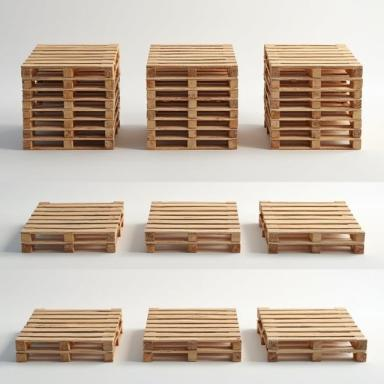pallet: (257, 307, 367, 350), (15, 308, 123, 351), (257, 320, 367, 362), (259, 200, 365, 243), (142, 308, 242, 351), (21, 201, 124, 242), (259, 214, 364, 254), (16, 325, 123, 362), (145, 201, 241, 242), (21, 217, 124, 253), (264, 43, 363, 78), (21, 44, 120, 78), (146, 44, 238, 78), (22, 120, 120, 150), (264, 120, 362, 150), (264, 60, 363, 89), (22, 61, 120, 89), (23, 112, 120, 138), (23, 104, 121, 129), (263, 75, 362, 99), (264, 114, 361, 138), (263, 96, 362, 119), (22, 76, 120, 99), (23, 96, 120, 119), (22, 87, 120, 109), (265, 107, 362, 129), (264, 87, 362, 108), (143, 350, 242, 363), (146, 241, 241, 253), (146, 77, 238, 89), (146, 138, 238, 150), (147, 98, 239, 109), (146, 108, 238, 119), (147, 88, 238, 98), (147, 119, 238, 129), (146, 128, 237, 138), (73, 140, 105, 149), (156, 140, 187, 149), (280, 140, 309, 147), (33, 141, 64, 145), (321, 141, 350, 145)
